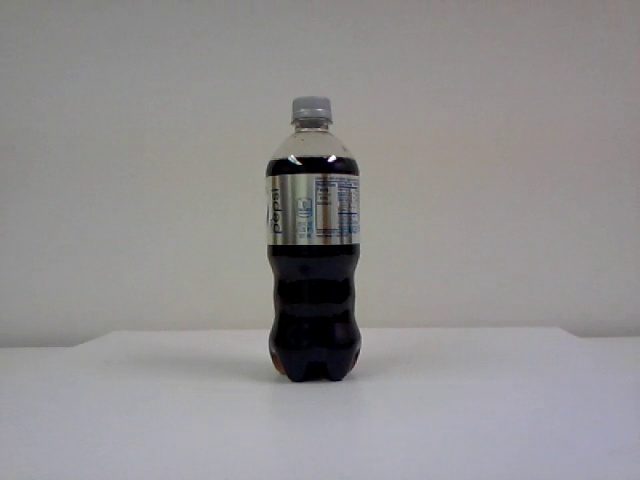botolplastik: (266, 98, 361, 382)
